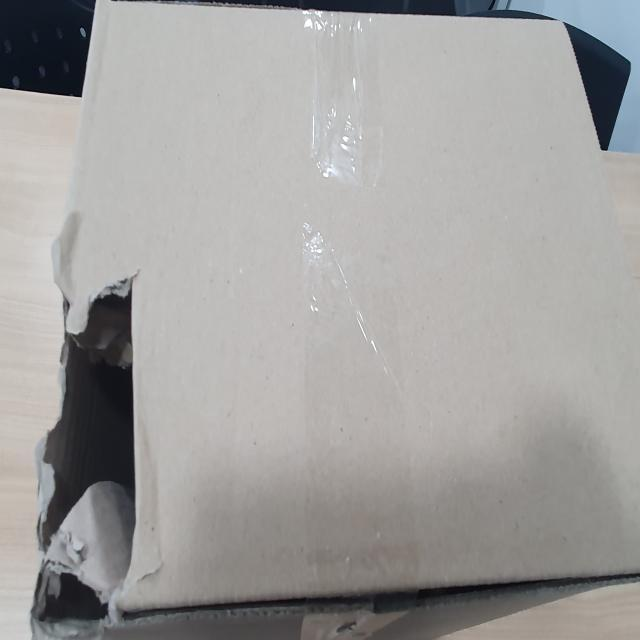hole: (32, 206, 150, 640)
